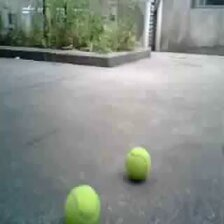tennis: (65, 185, 99, 223), (125, 147, 152, 177)
